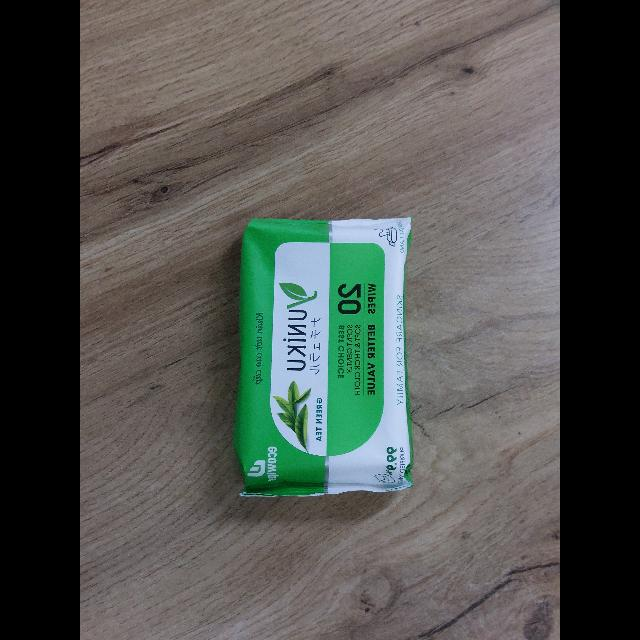khan_giay: (233, 218, 413, 496)
